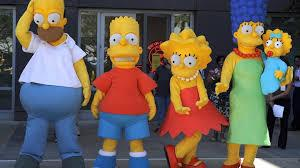Bart: (94, 11, 162, 161)
Homer: (13, 0, 91, 168)
Lisa: (155, 25, 229, 163)
Maggie: (259, 24, 298, 96)
Marge: (222, 0, 276, 168)
